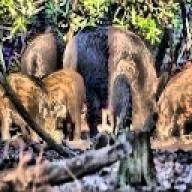boar: (154, 62, 192, 140)
